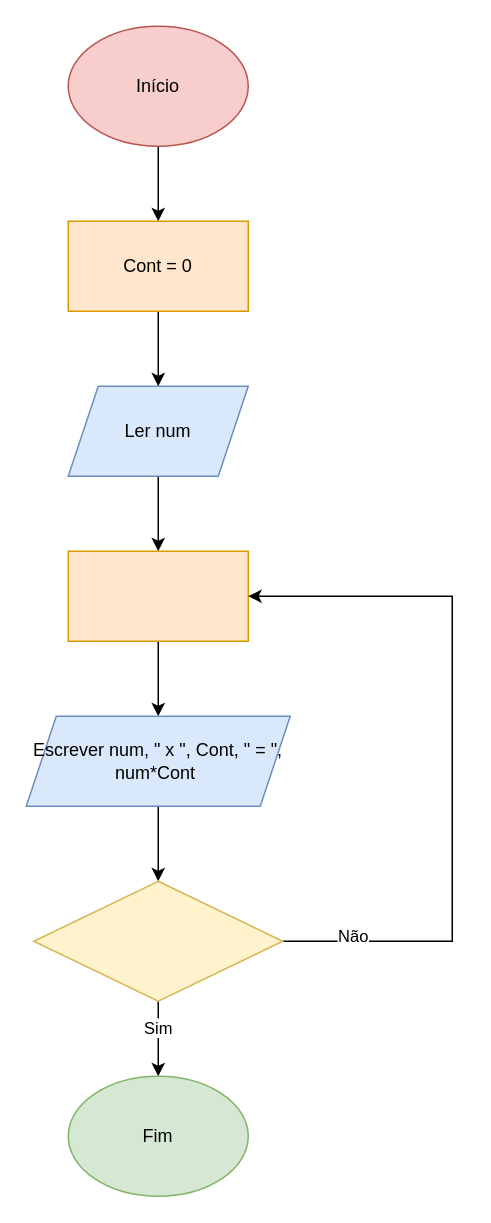
This 491x1223 diagram has some shape labels left out. The shapes that lost their labels are listed below. From the top down, each one's centre as x and y in pixels, then its label:
At point 157,595: "++ Cont".
At point 157,940: "Cont == 10".
